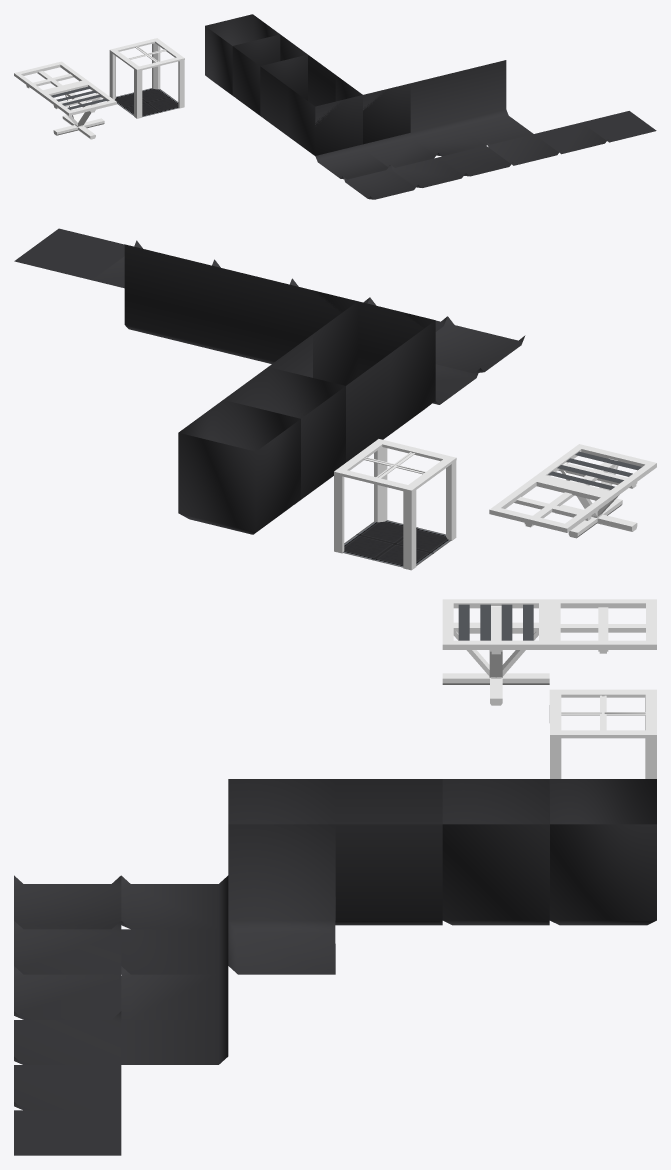
File: Plenums.fbx
The picture shows the model from 3 angles, top to bottom: view 1: azimuth 30°, elevation 25°; view 2: azimuth 150°, elevation 25°; view 3: azimuth 270°, elevation 25°; orthographic projection. The views are drawn at different scales.
Visible parts, largest first — view 1: PlenumCoverT4, PlenumCoverT3, PlenumCoverO, PlenumCoverL1, Plenum, PlenumCoverU, PlenumCoverL2, PlenumCoverI, Catwalk, PlenumCoverT1, PlenumCoverT2, PlenumCoverX1 (+6 smaller); view 2: PlenumCoverO, Plenum, PlenumCoverU, PlenumCoverT4, PlenumCoverT3, Catwalk, PlenumCoverI, PlenumCoverL1, PlenumCoverT1, PlenumCoverX6, PlenumCoverL2, Lattice (+3 smaller); view 3: PlenumCoverL2, PlenumCoverI, PlenumCoverU, PlenumCoverO, Catwalk, PlenumCoverX2, PlenumCoverT3, PlenumCoverT1, PlenumCoverL1, PlenumCoverX1, PlenumCoverX6, PlenumCoverX5 (+6 smaller).
Part boxes in pixels (left/top/right/bottom): PlenumCoverT4: left=458, top=60, right=533, bottom=145; PlenumCoverT3: left=410, top=71, right=485, bottom=156; PlenumCoverO: left=205, top=14, right=280, bottom=96; PlenumCoverL1: left=287, top=86, right=362, bottom=155; Plenum: left=109, top=38, right=184, bottom=118; PlenumCoverU: left=232, top=34, right=307, bottom=116; PlenumCoverL2: left=335, top=75, right=410, bottom=144; PlenumCoverI: left=260, top=55, right=335, bottom=136; Catwalk: left=41, top=81, right=116, bottom=139; PlenumCoverT1: left=315, top=100, right=389, bottom=179; PlenumCoverT2: left=363, top=89, right=436, bottom=167; PlenumCoverX1: left=343, top=165, right=416, bottom=199; PlenumCoverO: left=178, top=400, right=300, bottom=534; Plenum: left=334, top=439, right=456, bottom=570; PlenumCoverU: left=223, top=367, right=345, bottom=504; PlenumCoverT4: left=124, top=244, right=205, bottom=347; PlenumCoverT3: left=202, top=263, right=280, bottom=363; Catwalk: left=534, top=444, right=656, bottom=538; PlenumCoverI: left=268, top=334, right=390, bottom=462; PlenumCoverL1: left=386, top=312, right=435, bottom=437; PlenumCoverT1: left=358, top=301, right=480, bottom=404; PlenumCoverX6: left=14, top=228, right=124, bottom=280; PlenumCoverL2: left=313, top=290, right=357, bottom=385; Lattice: left=489, top=477, right=611, bottom=532; PlenumCoverL2: left=228, top=824, right=335, bottom=974; PlenumCoverI: left=335, top=779, right=442, bottom=925; PlenumCoverU: left=442, top=779, right=549, bottom=925; PlenumCoverO: left=549, top=779, right=656, bottom=925; Catwalk: left=442, top=599, right=549, bottom=705; PlenumCoverX2: left=14, top=921, right=121, bottom=974; PlenumCoverT3: left=121, top=966, right=228, bottom=1019; PlenumCoverT1: left=121, top=875, right=228, bottom=929; PlenumCoverL1: left=228, top=779, right=335, bottom=924; PlenumCoverX1: left=14, top=875, right=121, bottom=929; PlenumCoverX6: left=14, top=1110, right=121, bottom=1155; PlenumCoverX5: left=14, top=1065, right=121, bottom=1110.
Bounding box in the file's own units: 10 × 1.08 × 6.
